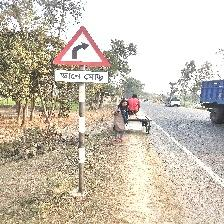Right-turn: (52, 26, 111, 83)
